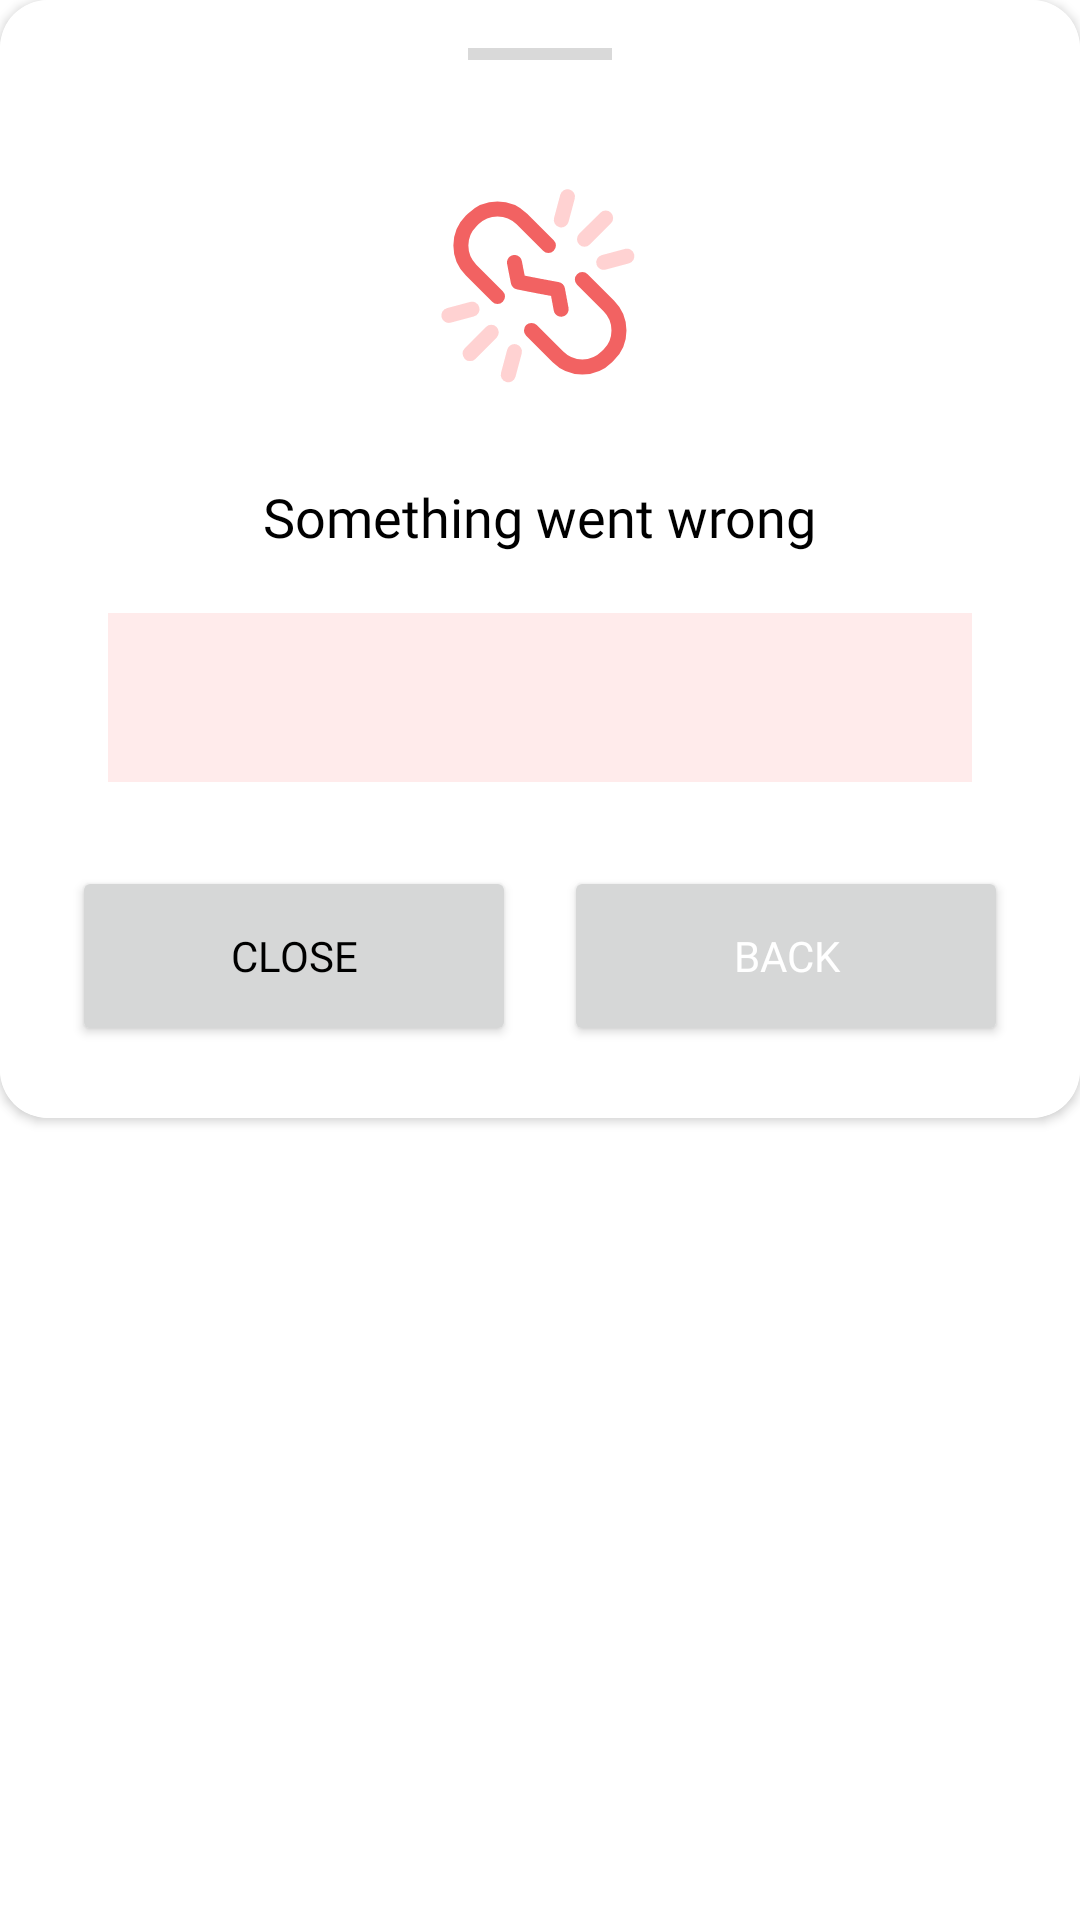

Icon bounding boxes for this 1080w x 1920h phone screenshot, format (x1, y1, x2, y2):
link error: (442, 189, 634, 382)
